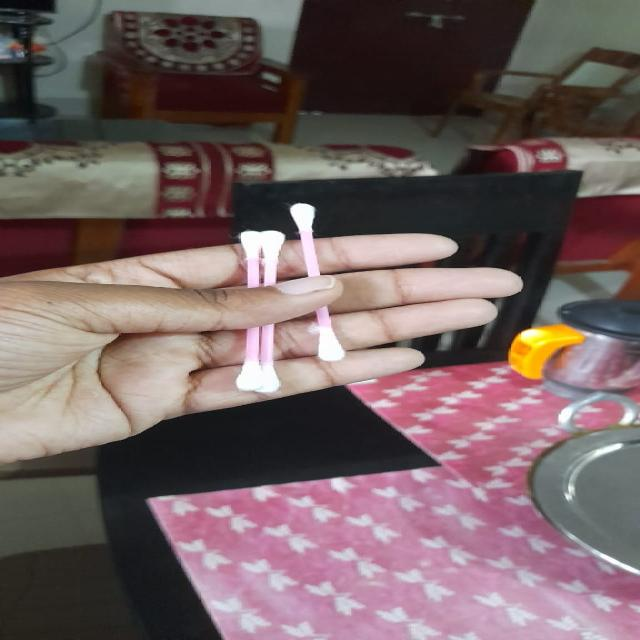Earbud - Non Recyclable: (211, 192, 404, 413)
